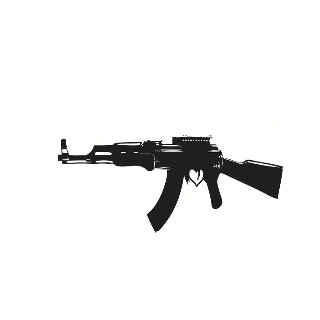rifle: (57, 136, 285, 233)
